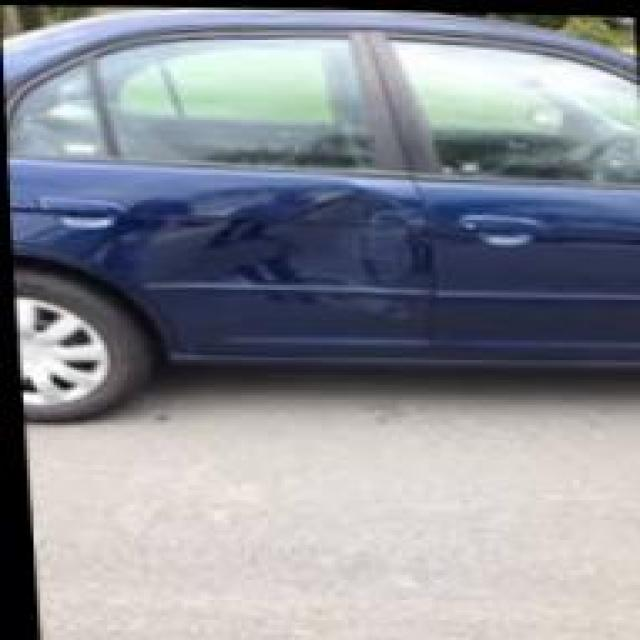replaceable: (86, 166, 485, 326)
